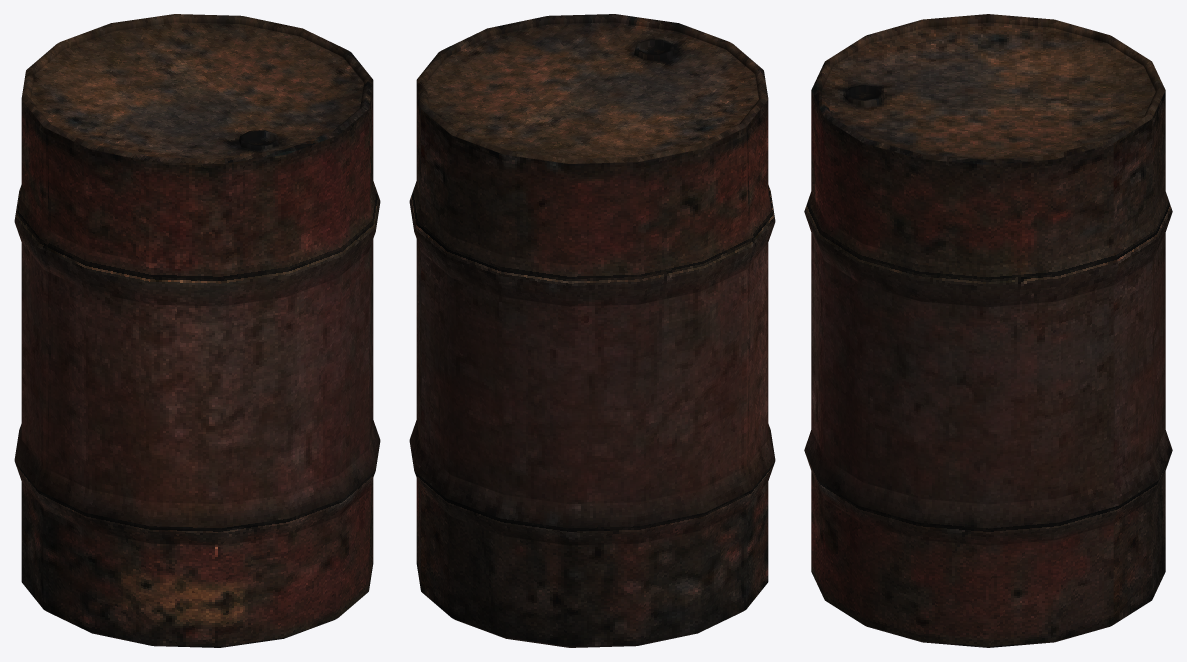
File: metal_barrel_1.glb
3 renders of one model, left to right at view 1: azimuth 30°, elevation 25°; view 2: azimuth 150°, elevation 25°; view 3: azimuth 270°, elevation 25°, orthographic.
Parts seen in each view (by area): view 1: metal_barrel_1; view 2: metal_barrel_1; view 3: metal_barrel_1.
Boxes of the visible parts, x1,y1,x2,y2 form: metal_barrel_1: (14,14,380,647); metal_barrel_1: (409,14,775,647); metal_barrel_1: (804,14,1172,647).
Size of the model in its own units: 0.7488 by 1.09 by 0.7488.
1 material, 1 textured.
